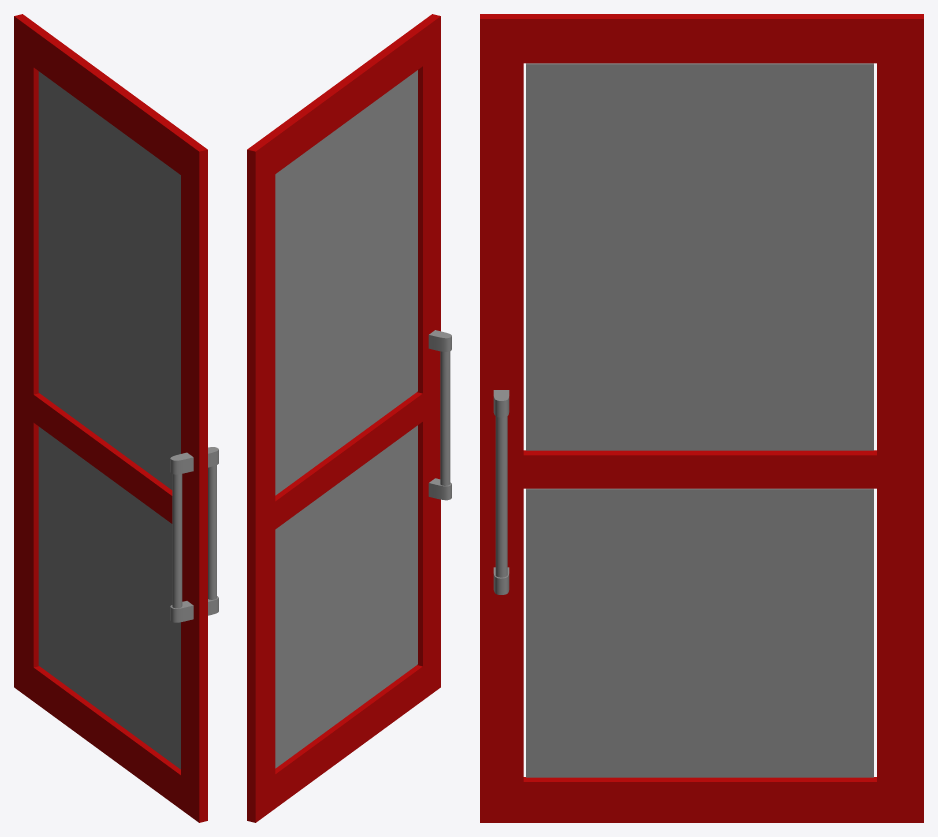
Rendered from Entrance door.FBX.
3 views of the same model, side by side, from view 1: azimuth 30°, elevation 25°; view 2: azimuth 150°, elevation 25°; view 3: azimuth 270°, elevation 25° (orthographic). The views are drawn at different scales.
Parts seen in each view (by area): view 1: Door; view 2: Door; view 3: Door.
Boxes of the visible parts, x1,y1,x2,y2 form: Door: [14, 14, 218, 822]; Door: [247, 14, 451, 822]; Door: [480, 14, 923, 822].
Size of the model in its own units: 17.64 by 243 by 121.
